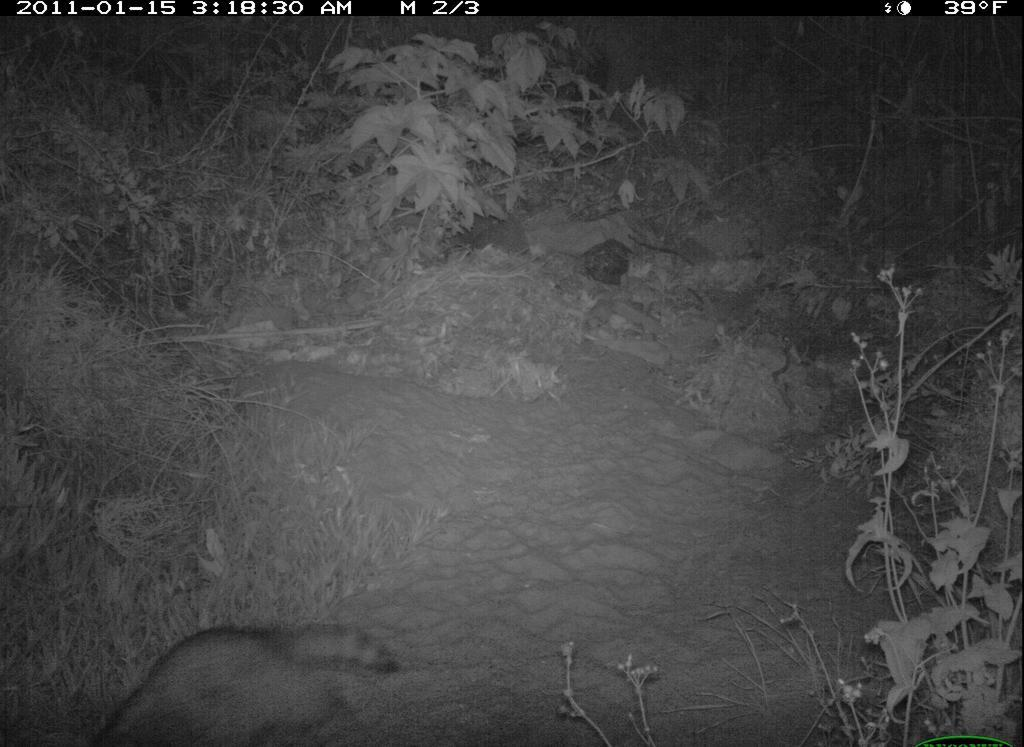raccoon: (77, 619, 424, 747)
